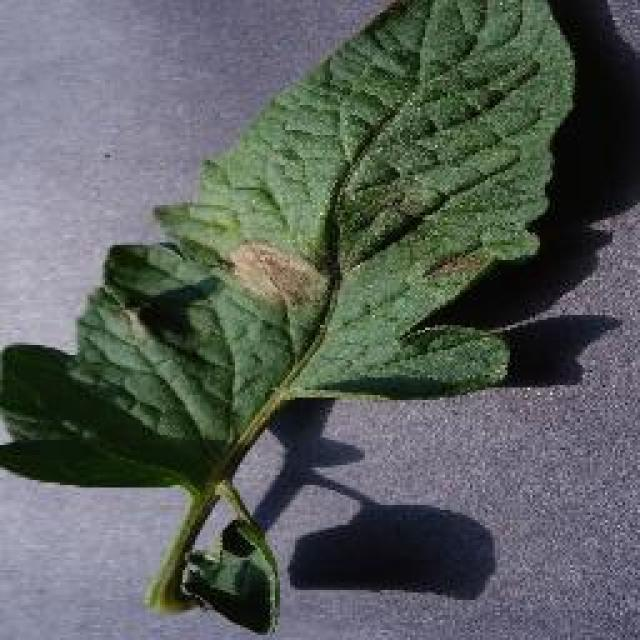Tomato Late Blight: (192, 40, 518, 360)
